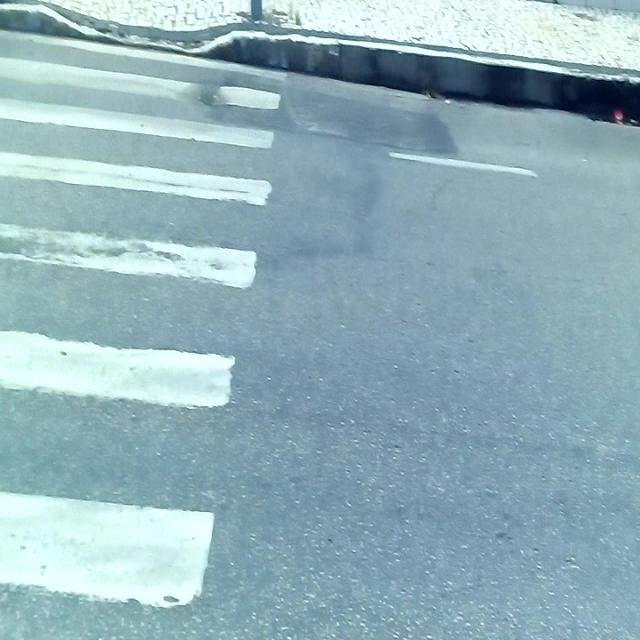crosswalk: (0, 28, 289, 609)
